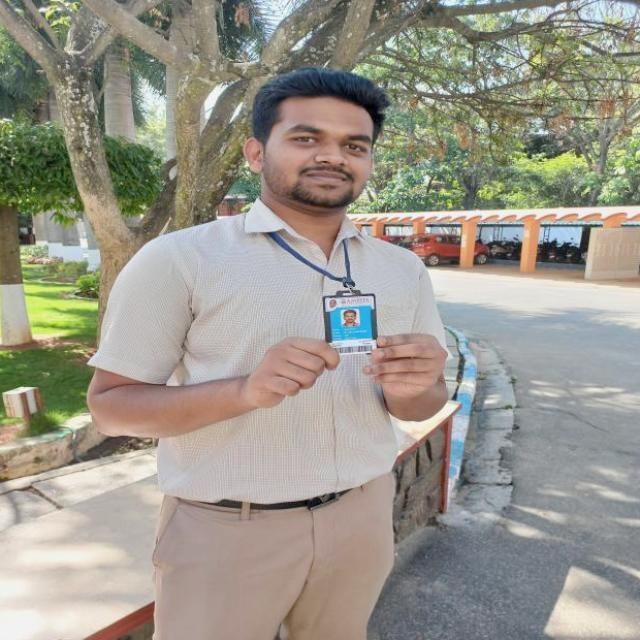ID_card: (272, 240, 384, 354)
